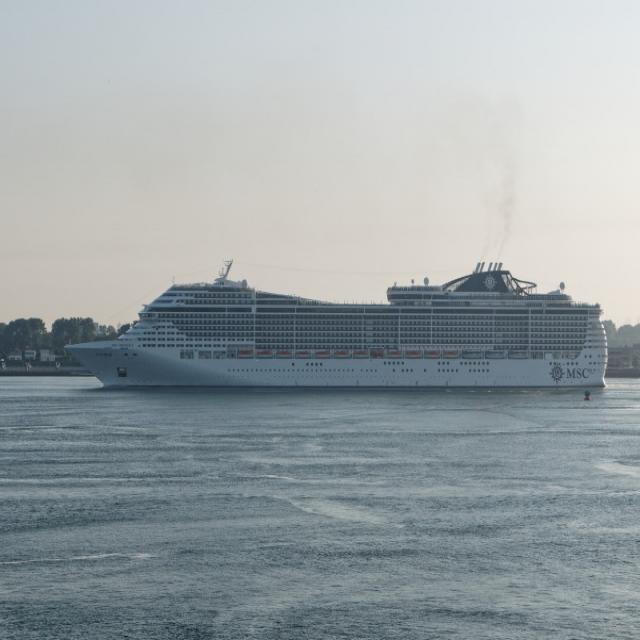cruises: (59, 233, 622, 402)
